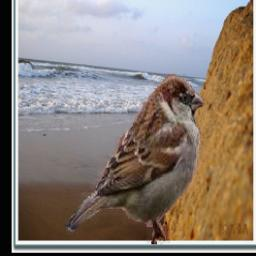Sparrow: (65, 75, 205, 245)
